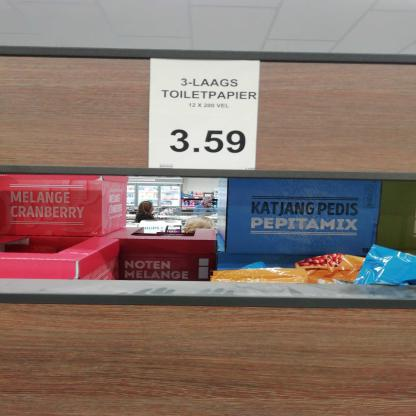prtg: (150, 59, 261, 171)
